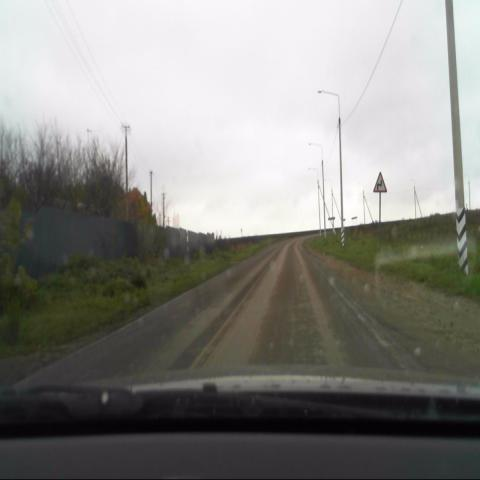1_12: (373, 170, 388, 195)
